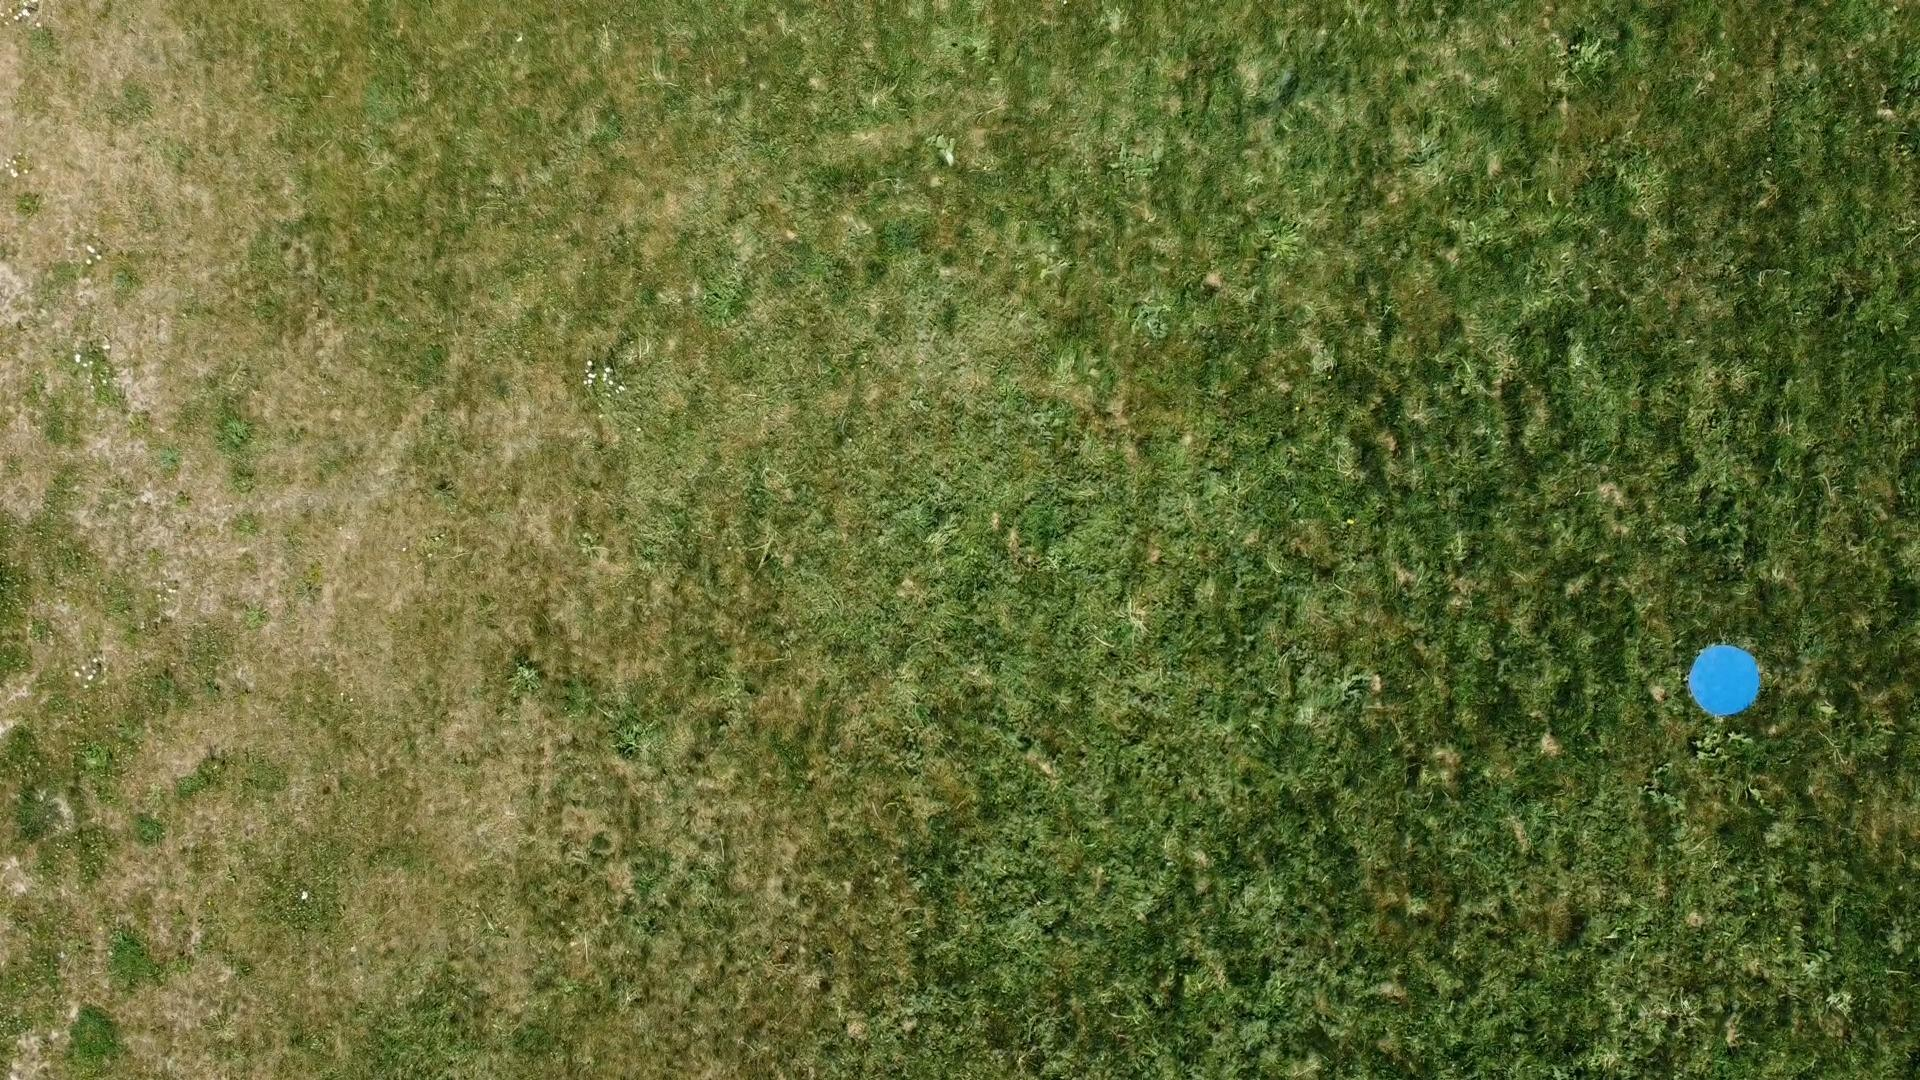Blue: (1685, 642, 1766, 719)
